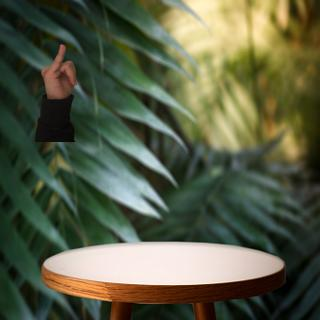HAVE: (37, 41, 80, 105)
